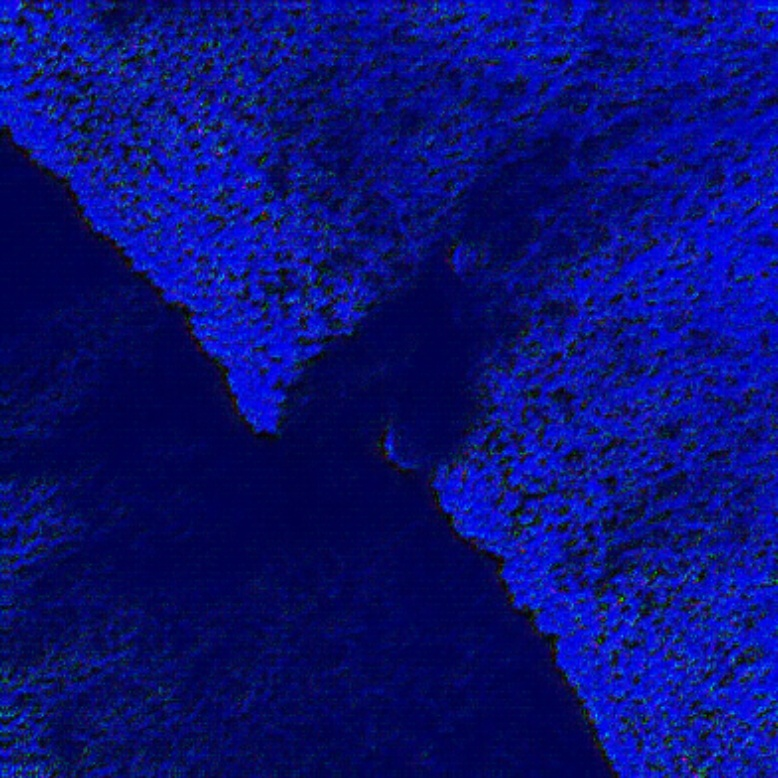rip_current: (253, 130, 623, 569)
